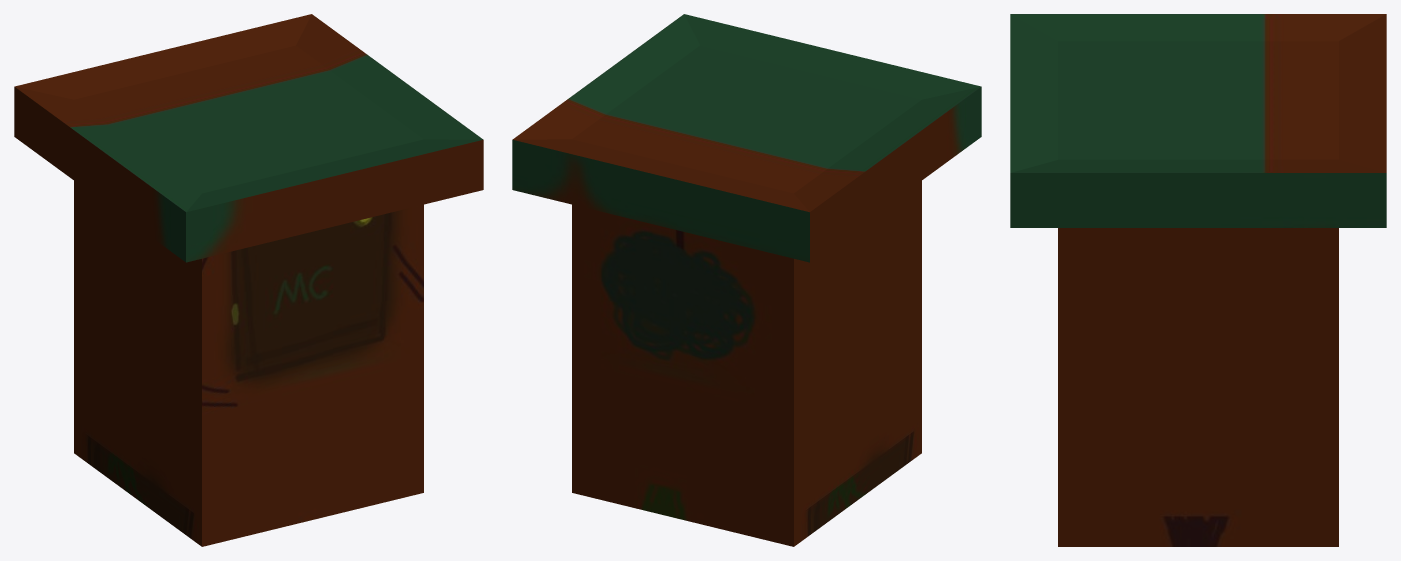
Rendered from Bano.obj.
3 views of the same model, side by side, from view 1: azimuth 30°, elevation 25°; view 2: azimuth 150°, elevation 25°; view 3: azimuth 270°, elevation 25° (orthographic). The views are drawn at different scales.
Parts seen in each view (by area): view 1: Cube_Cube.001; view 2: Cube_Cube.001; view 3: Cube_Cube.001.
Part boxes in pixels (box(x1,y1,x2,y2)): Cube_Cube.001: box(14, 14, 483, 546); Cube_Cube.001: box(512, 14, 981, 546); Cube_Cube.001: box(1010, 14, 1386, 546).
Size of the model in its own units: 9.55 by 11.04 by 9.55.
